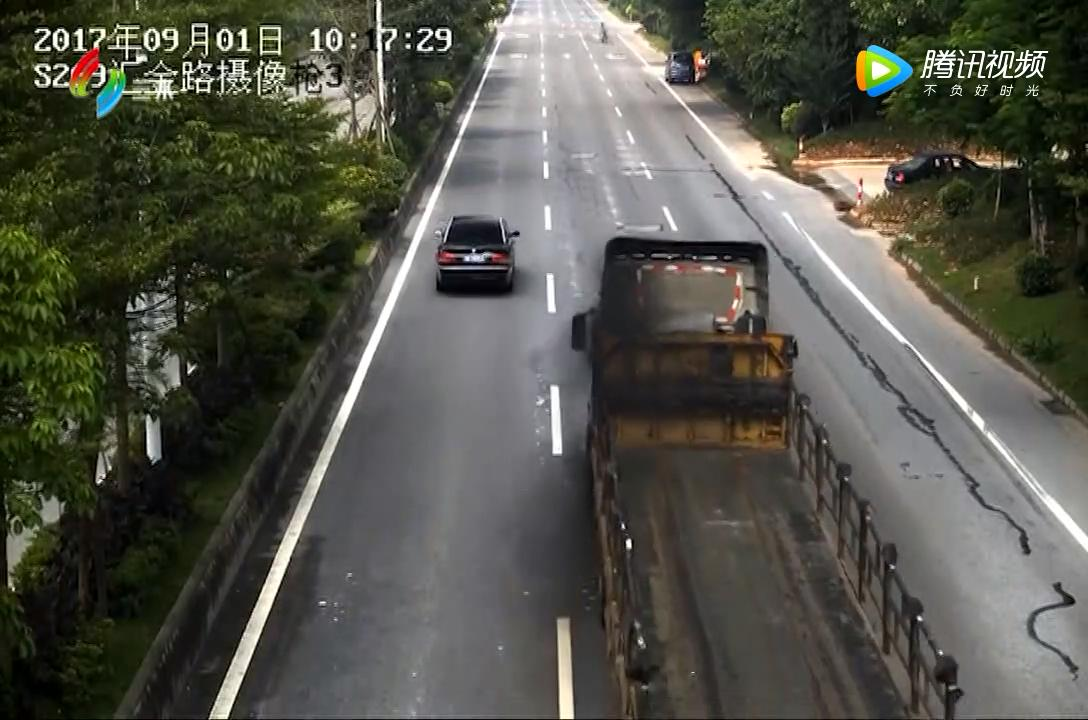smoke: (537, 273, 639, 540)
